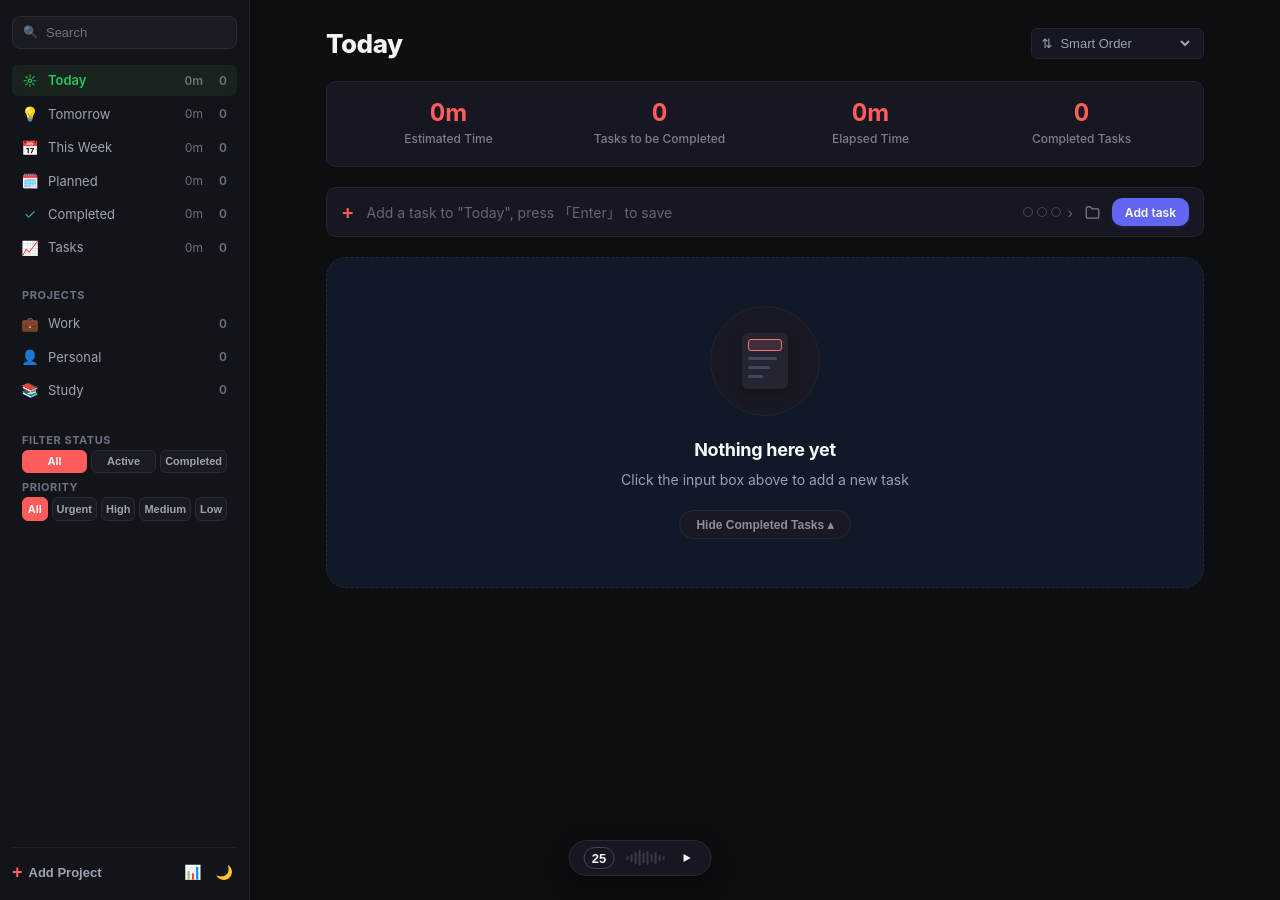
Test: App component integration › loads task into form when edit button is clicked
The image size is (1280, 900).
Type "Edit me" into the field named "title" at (689, 212), box [366, 204, 1012, 221]
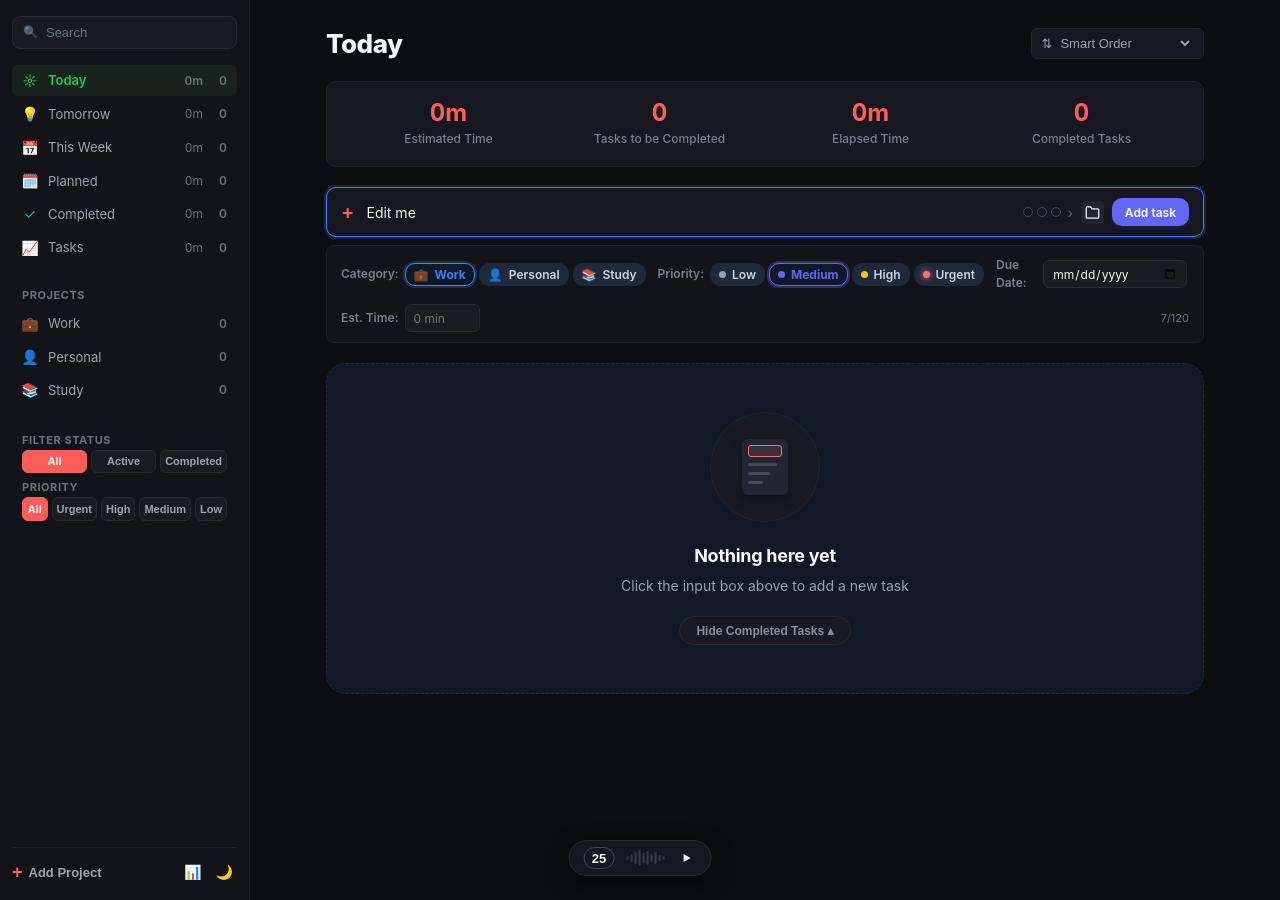
Click the button "Add task" at (1150, 212), box [1112, 198, 1189, 226]
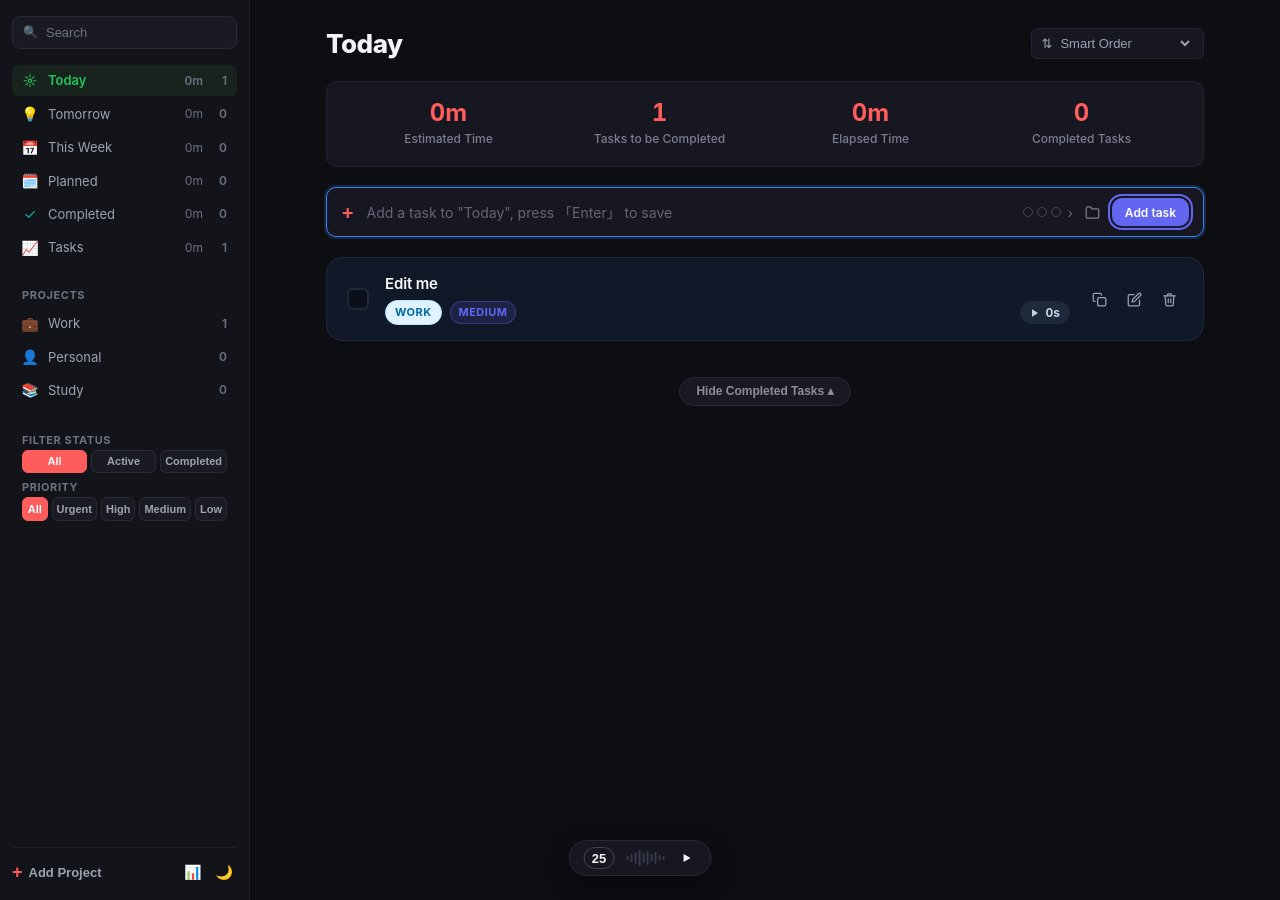
Click the button named "edit task: edit me" at (1134, 299), box [1119, 284, 1150, 315]
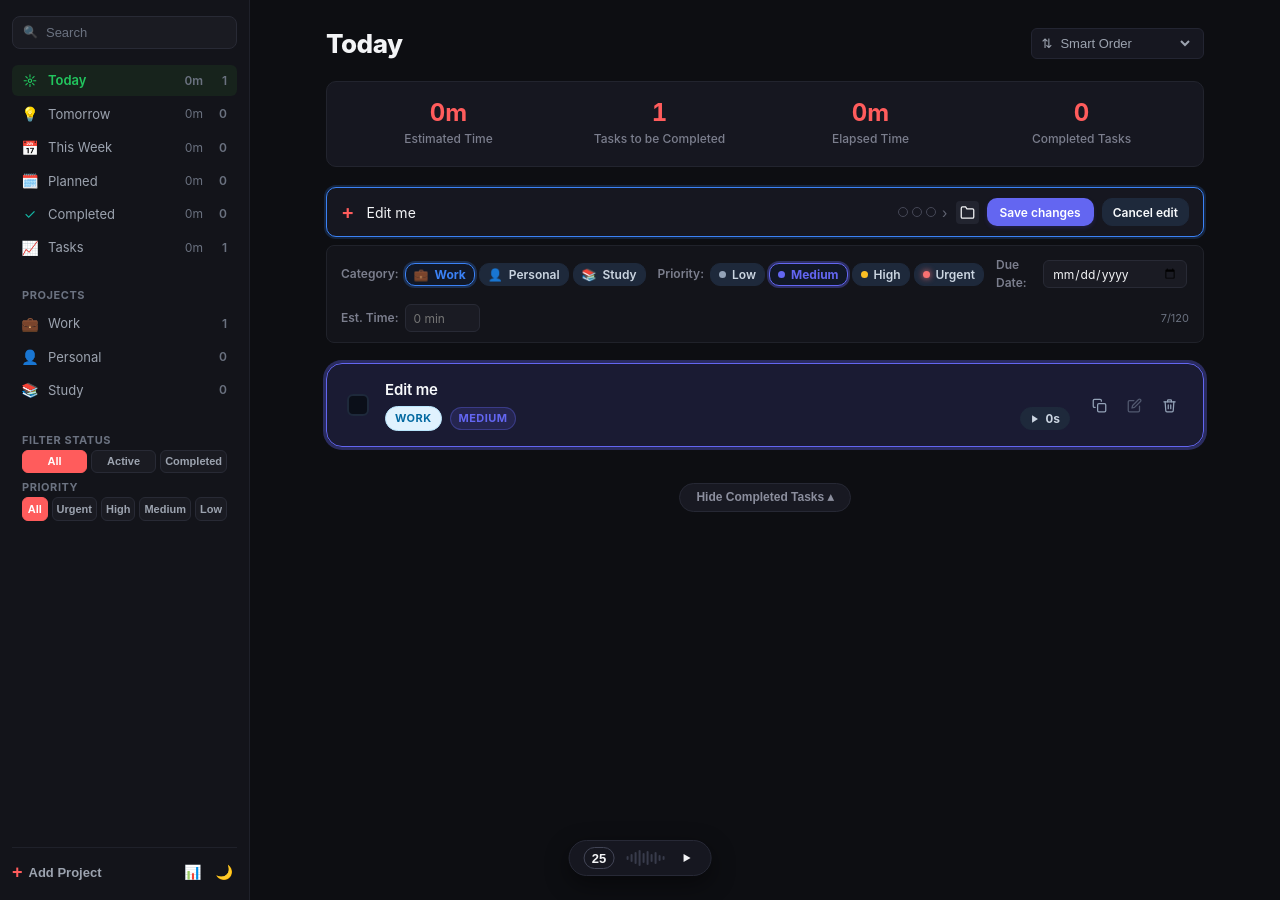
expect the field named "title" holds "Edit me": met, box [366, 204, 886, 221]
expect the button "Save changes" is shown: met, box [986, 198, 1094, 226]
